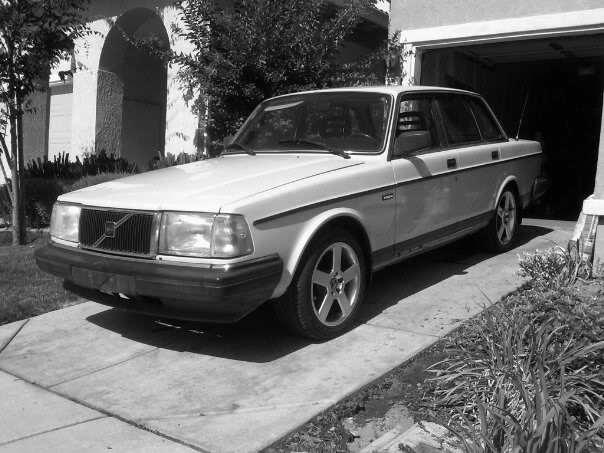car: (34, 87, 567, 343)
